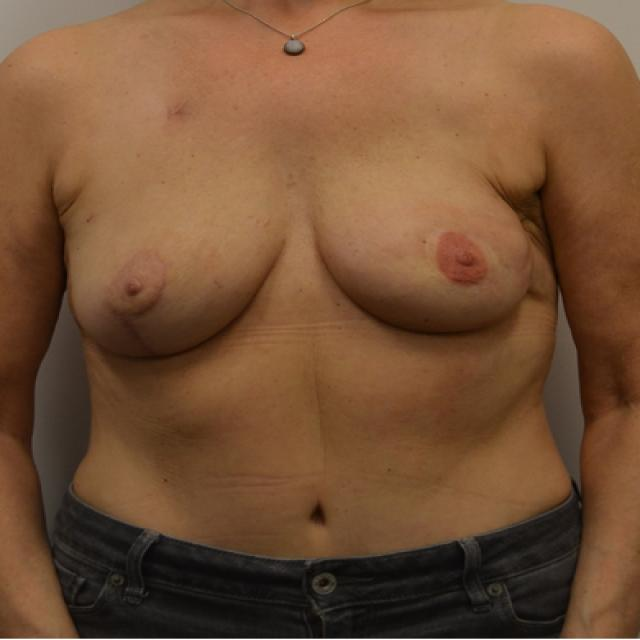Seno herido: (57, 154, 296, 375), (305, 154, 541, 352)
